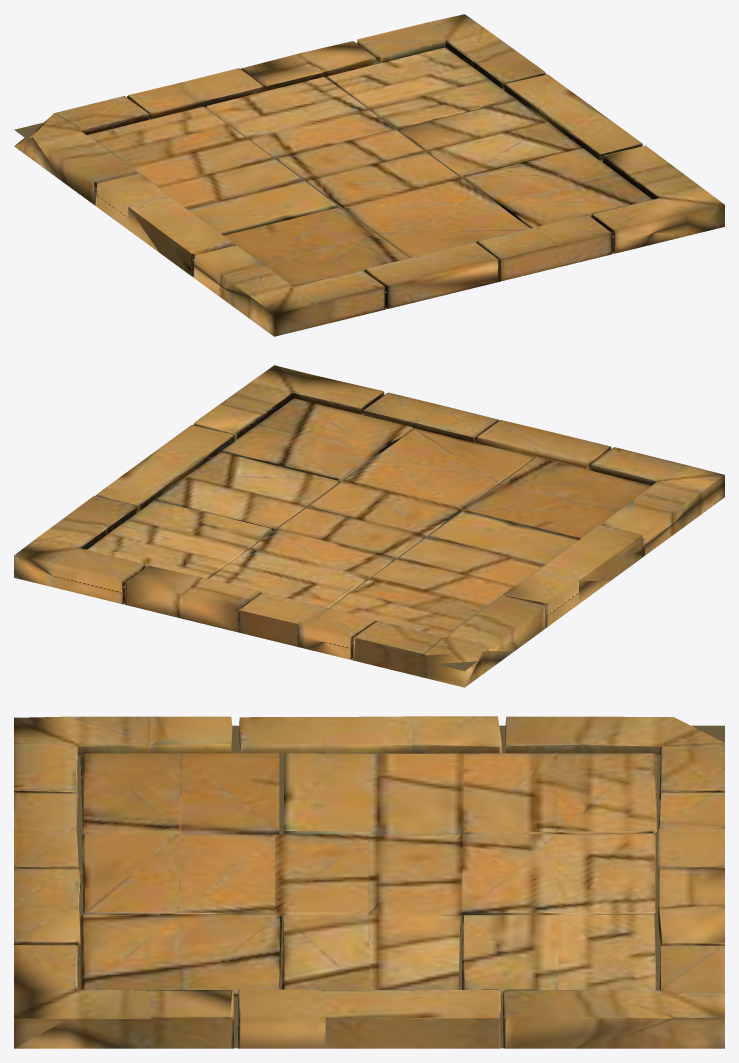
The model's file is floor-stone.lod1.glb.
The picture shows the model from 3 angles, top to bottom: view 1: azimuth 30°, elevation 25°; view 2: azimuth 150°, elevation 25°; view 3: azimuth 270°, elevation 25°; orthographic projection. The views are drawn at different scales.
Bounding box in the file's own units: 2 × 0.0997 × 2.
Materials: 1 (1 with a texture image).
